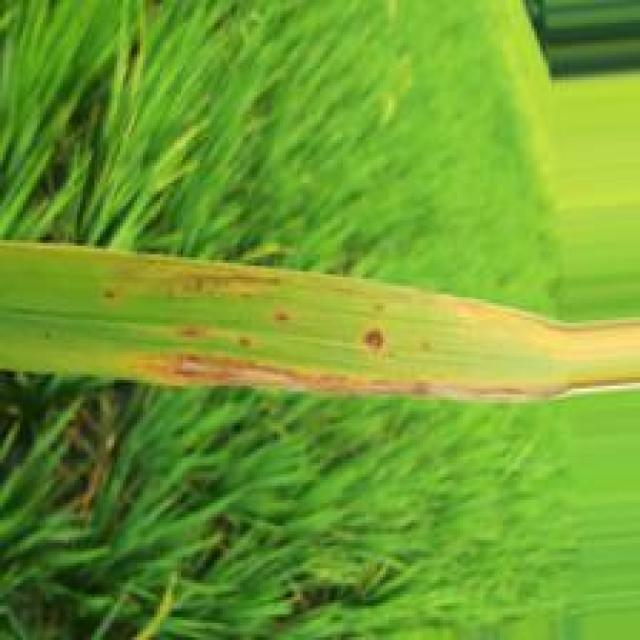Rice Tungro: (128, 353, 574, 402), (355, 323, 393, 361), (274, 309, 289, 321)
